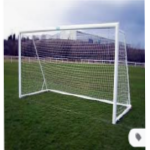goals: (16, 21, 132, 125)
